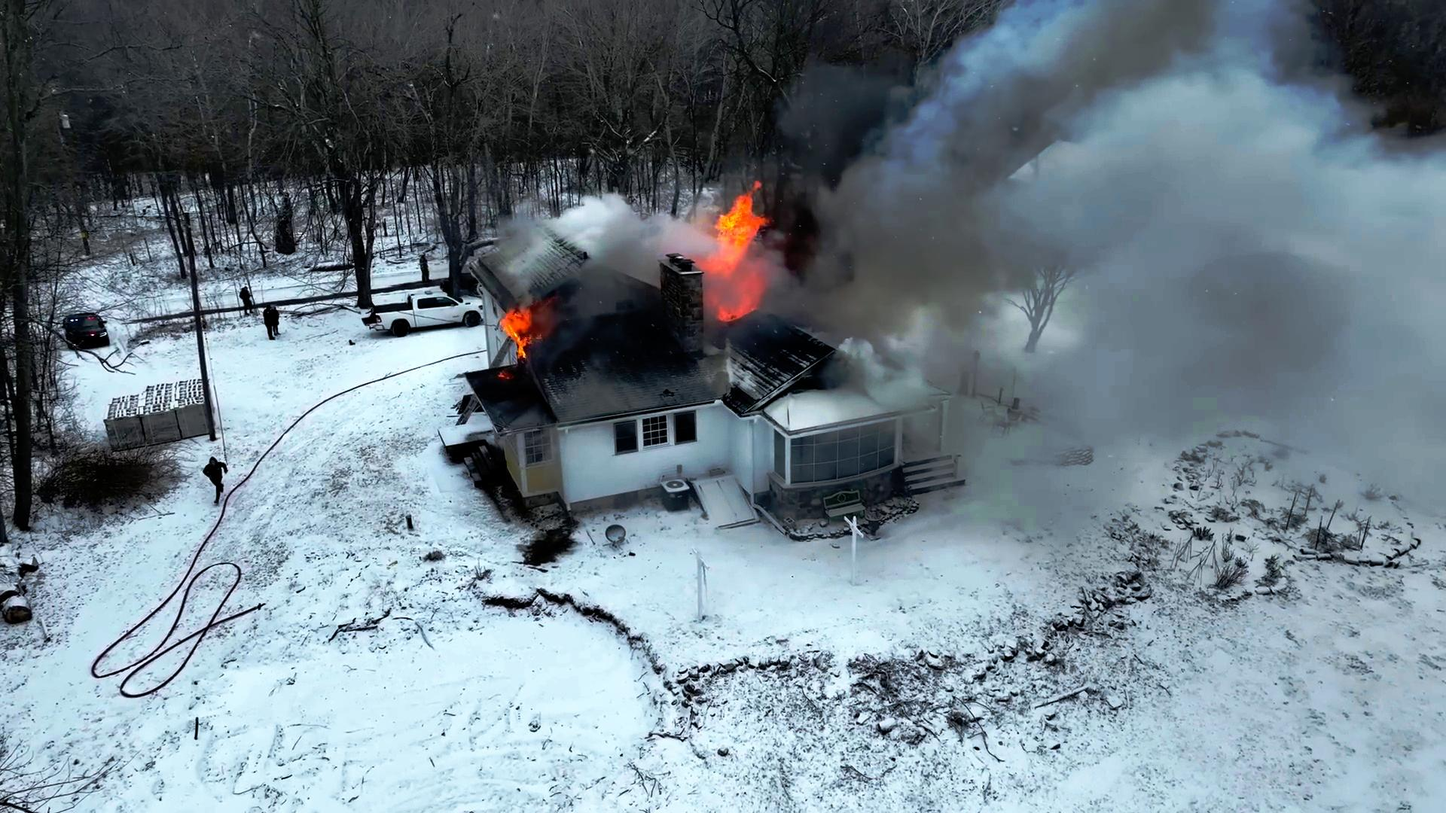fire: (699, 183, 758, 317), (494, 307, 545, 353)
